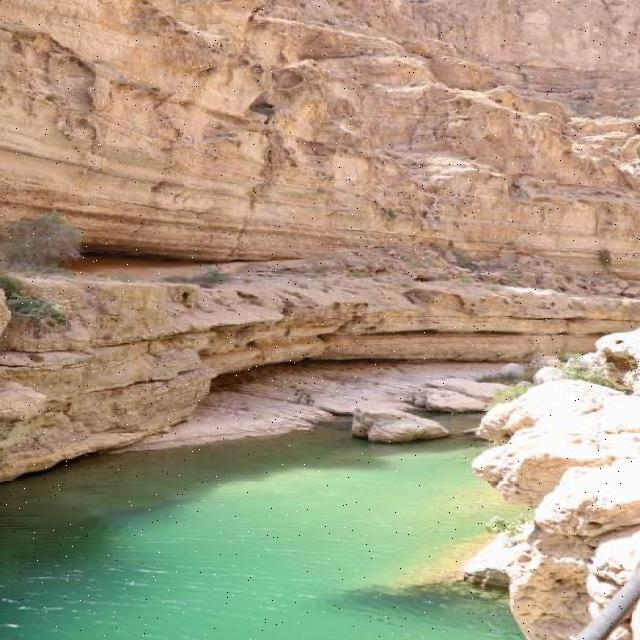Sedimentary: (1, 1, 640, 432), (490, 334, 633, 640)
